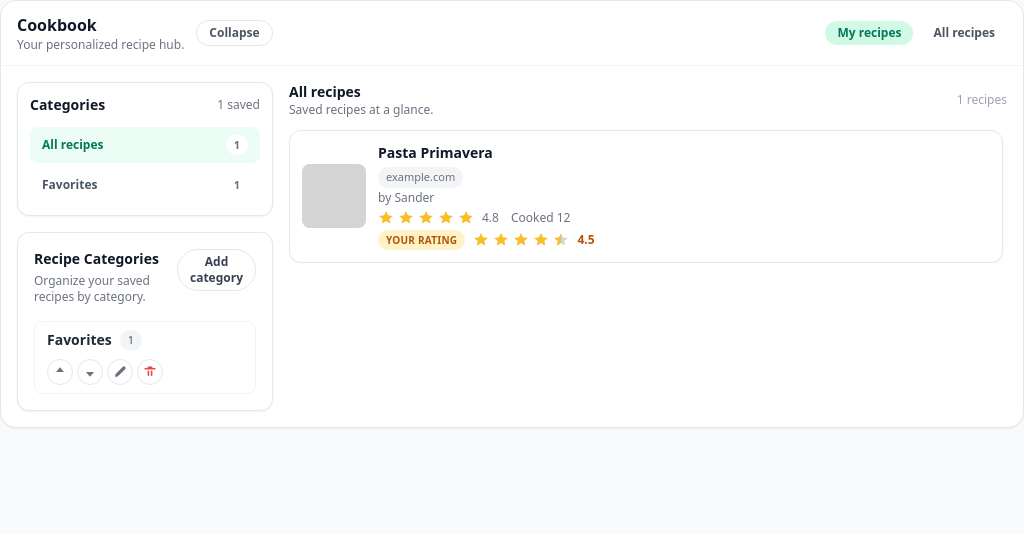
Cookbook › switches to all recipes and sorts by rating
Click the tab with test id "cookbook-tab-all".
click(964, 33)  # box [922, 21, 1007, 45]
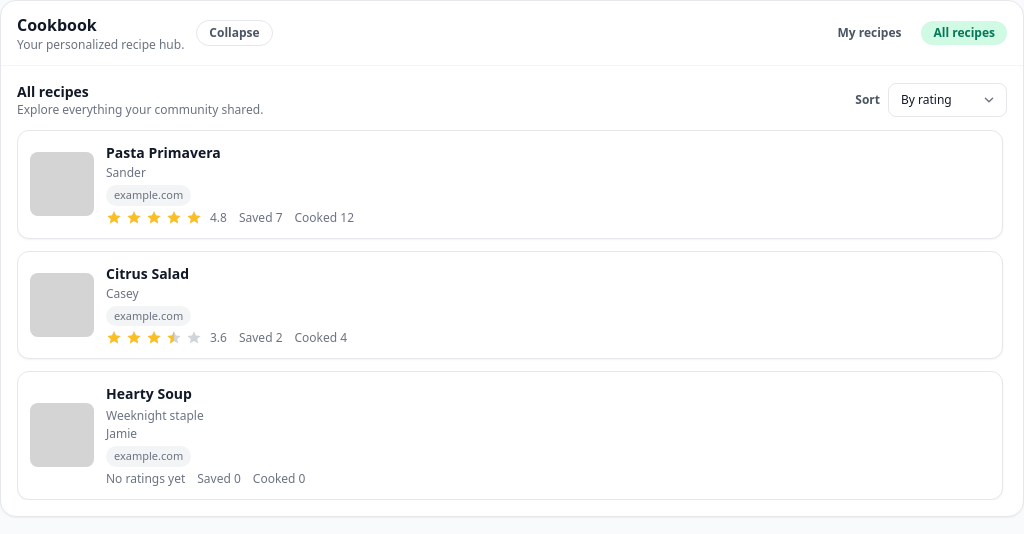
Check: the button with test id "all-recipe-item-" shows "Pasta Primavera", box [17, 130, 1003, 238]
Select "By date shared" in the dropdown with test id "cookbook-sort" at (948, 100), box [888, 83, 1007, 117]
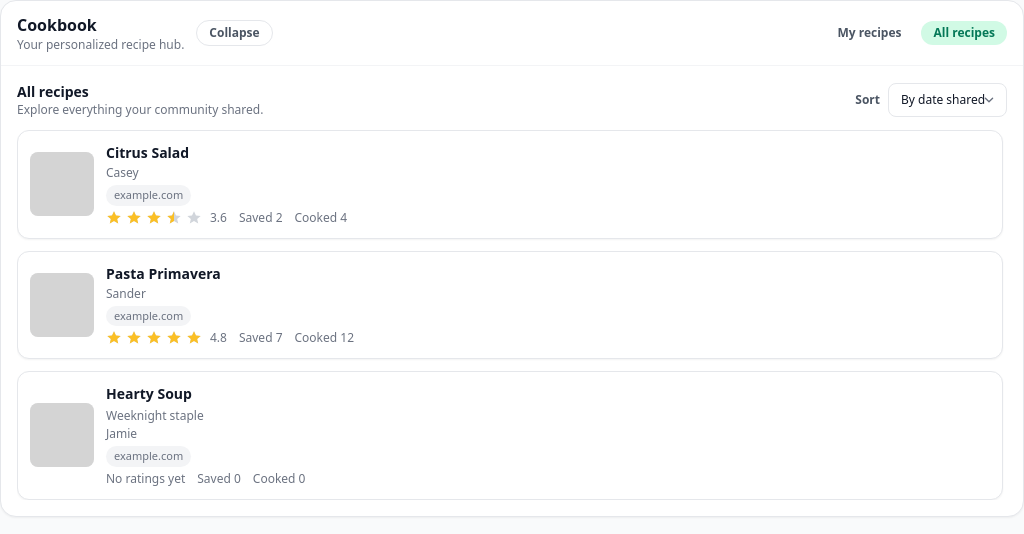
Check: the button with test id "all-recipe-item-" shows "Citrus Salad", box [17, 130, 1003, 238]
